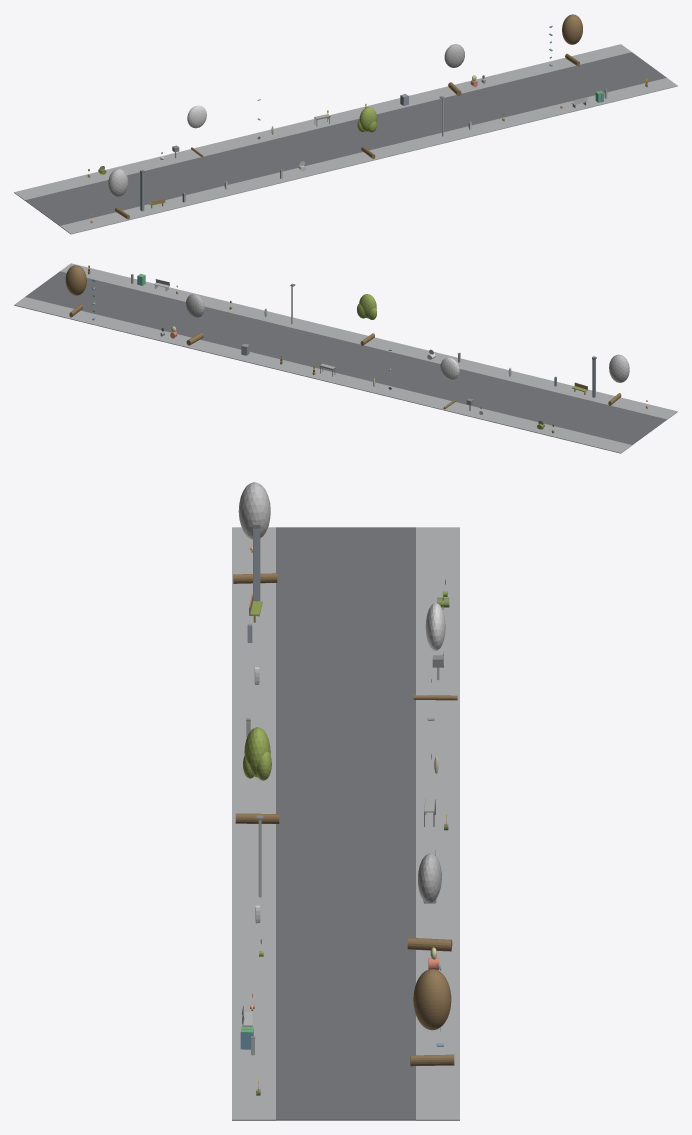
3 renders of one model, top to bottom at view 1: azimuth 30°, elevation 25°; view 2: azimuth 150°, elevation 25°; view 3: azimuth 270°, elevation 25°, orthographic. The views are drawn at different scales.
Parts seen in each view (by area): view 1: road_slab, sidewalk_left, sidewalk_right, inst_0016, inst_0012, inst_0014, inst_0015, inst_0013; view 2: road_slab, sidewalk_right, sidewalk_left, inst_0016, inst_0012, inst_0014, inst_0015, inst_0013; view 3: road_slab, sidewalk_left, sidewalk_right, inst_0016, inst_0012, inst_0014, inst_0015, inst_0013.
Boxes of the visible parts, x1,y1,x2,y2 form: road_slab: (25, 52, 666, 225); sidewalk_left: (60, 78, 677, 234); sidewalk_right: (14, 44, 631, 200); inst_0016: (562, 14, 582, 66); inst_0012: (108, 168, 129, 219); inst_0014: (357, 107, 377, 159); inst_0015: (444, 44, 464, 96); inst_0013: (187, 105, 206, 157); road_slab: (25, 271, 666, 445); sidewalk_right: (14, 297, 631, 453); sidewalk_left: (60, 263, 677, 419); inst_0016: (65, 265, 86, 317); inst_0012: (608, 354, 629, 405); inst_0014: (357, 294, 376, 345); inst_0015: (186, 294, 204, 345); inst_0013: (440, 357, 459, 409); road_slab: (276, 527, 415, 1120); sidewalk_left: (232, 527, 275, 1120); sidewalk_right: (416, 527, 459, 1120); inst_0016: (410, 969, 454, 1066); inst_0012: (233, 482, 277, 583); inst_0014: (235, 727, 279, 823); inst_0015: (407, 853, 452, 951); inst_0013: (413, 603, 457, 700).
Bounding box in the file's own units: 80 × 6.08 × 13.
